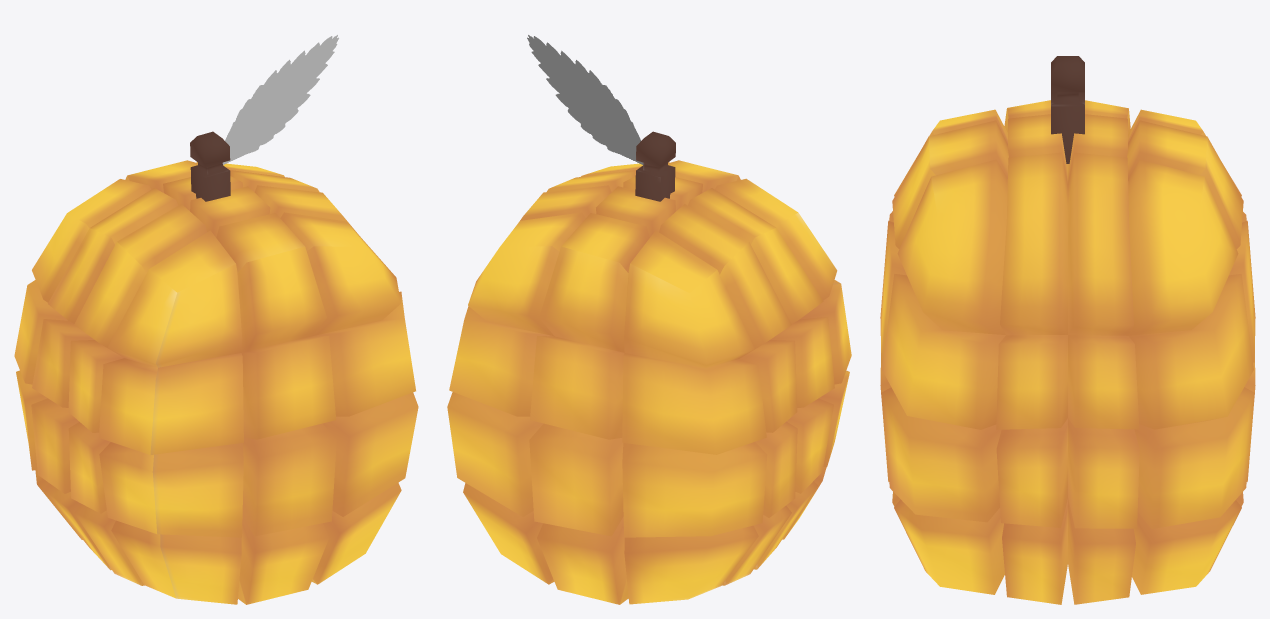
File: Papango.fbx
3 views of the same model, side by side, from view 1: azimuth 30°, elevation 25°; view 2: azimuth 150°, elevation 25°; view 3: azimuth 270°, elevation 25° (orthographic). The views are drawn at different scales.
Visible parts, largest first — view 1: Papango; view 2: Papango; view 3: Papango.
Boxes of the visible parts, x1,y1,x2,y2 form: Papango: (14, 35, 418, 604); Papango: (447, 35, 851, 604); Papango: (880, 56, 1255, 604).
Bounding box in the file's own units: 1.14 × 2.02 × 1.27.
